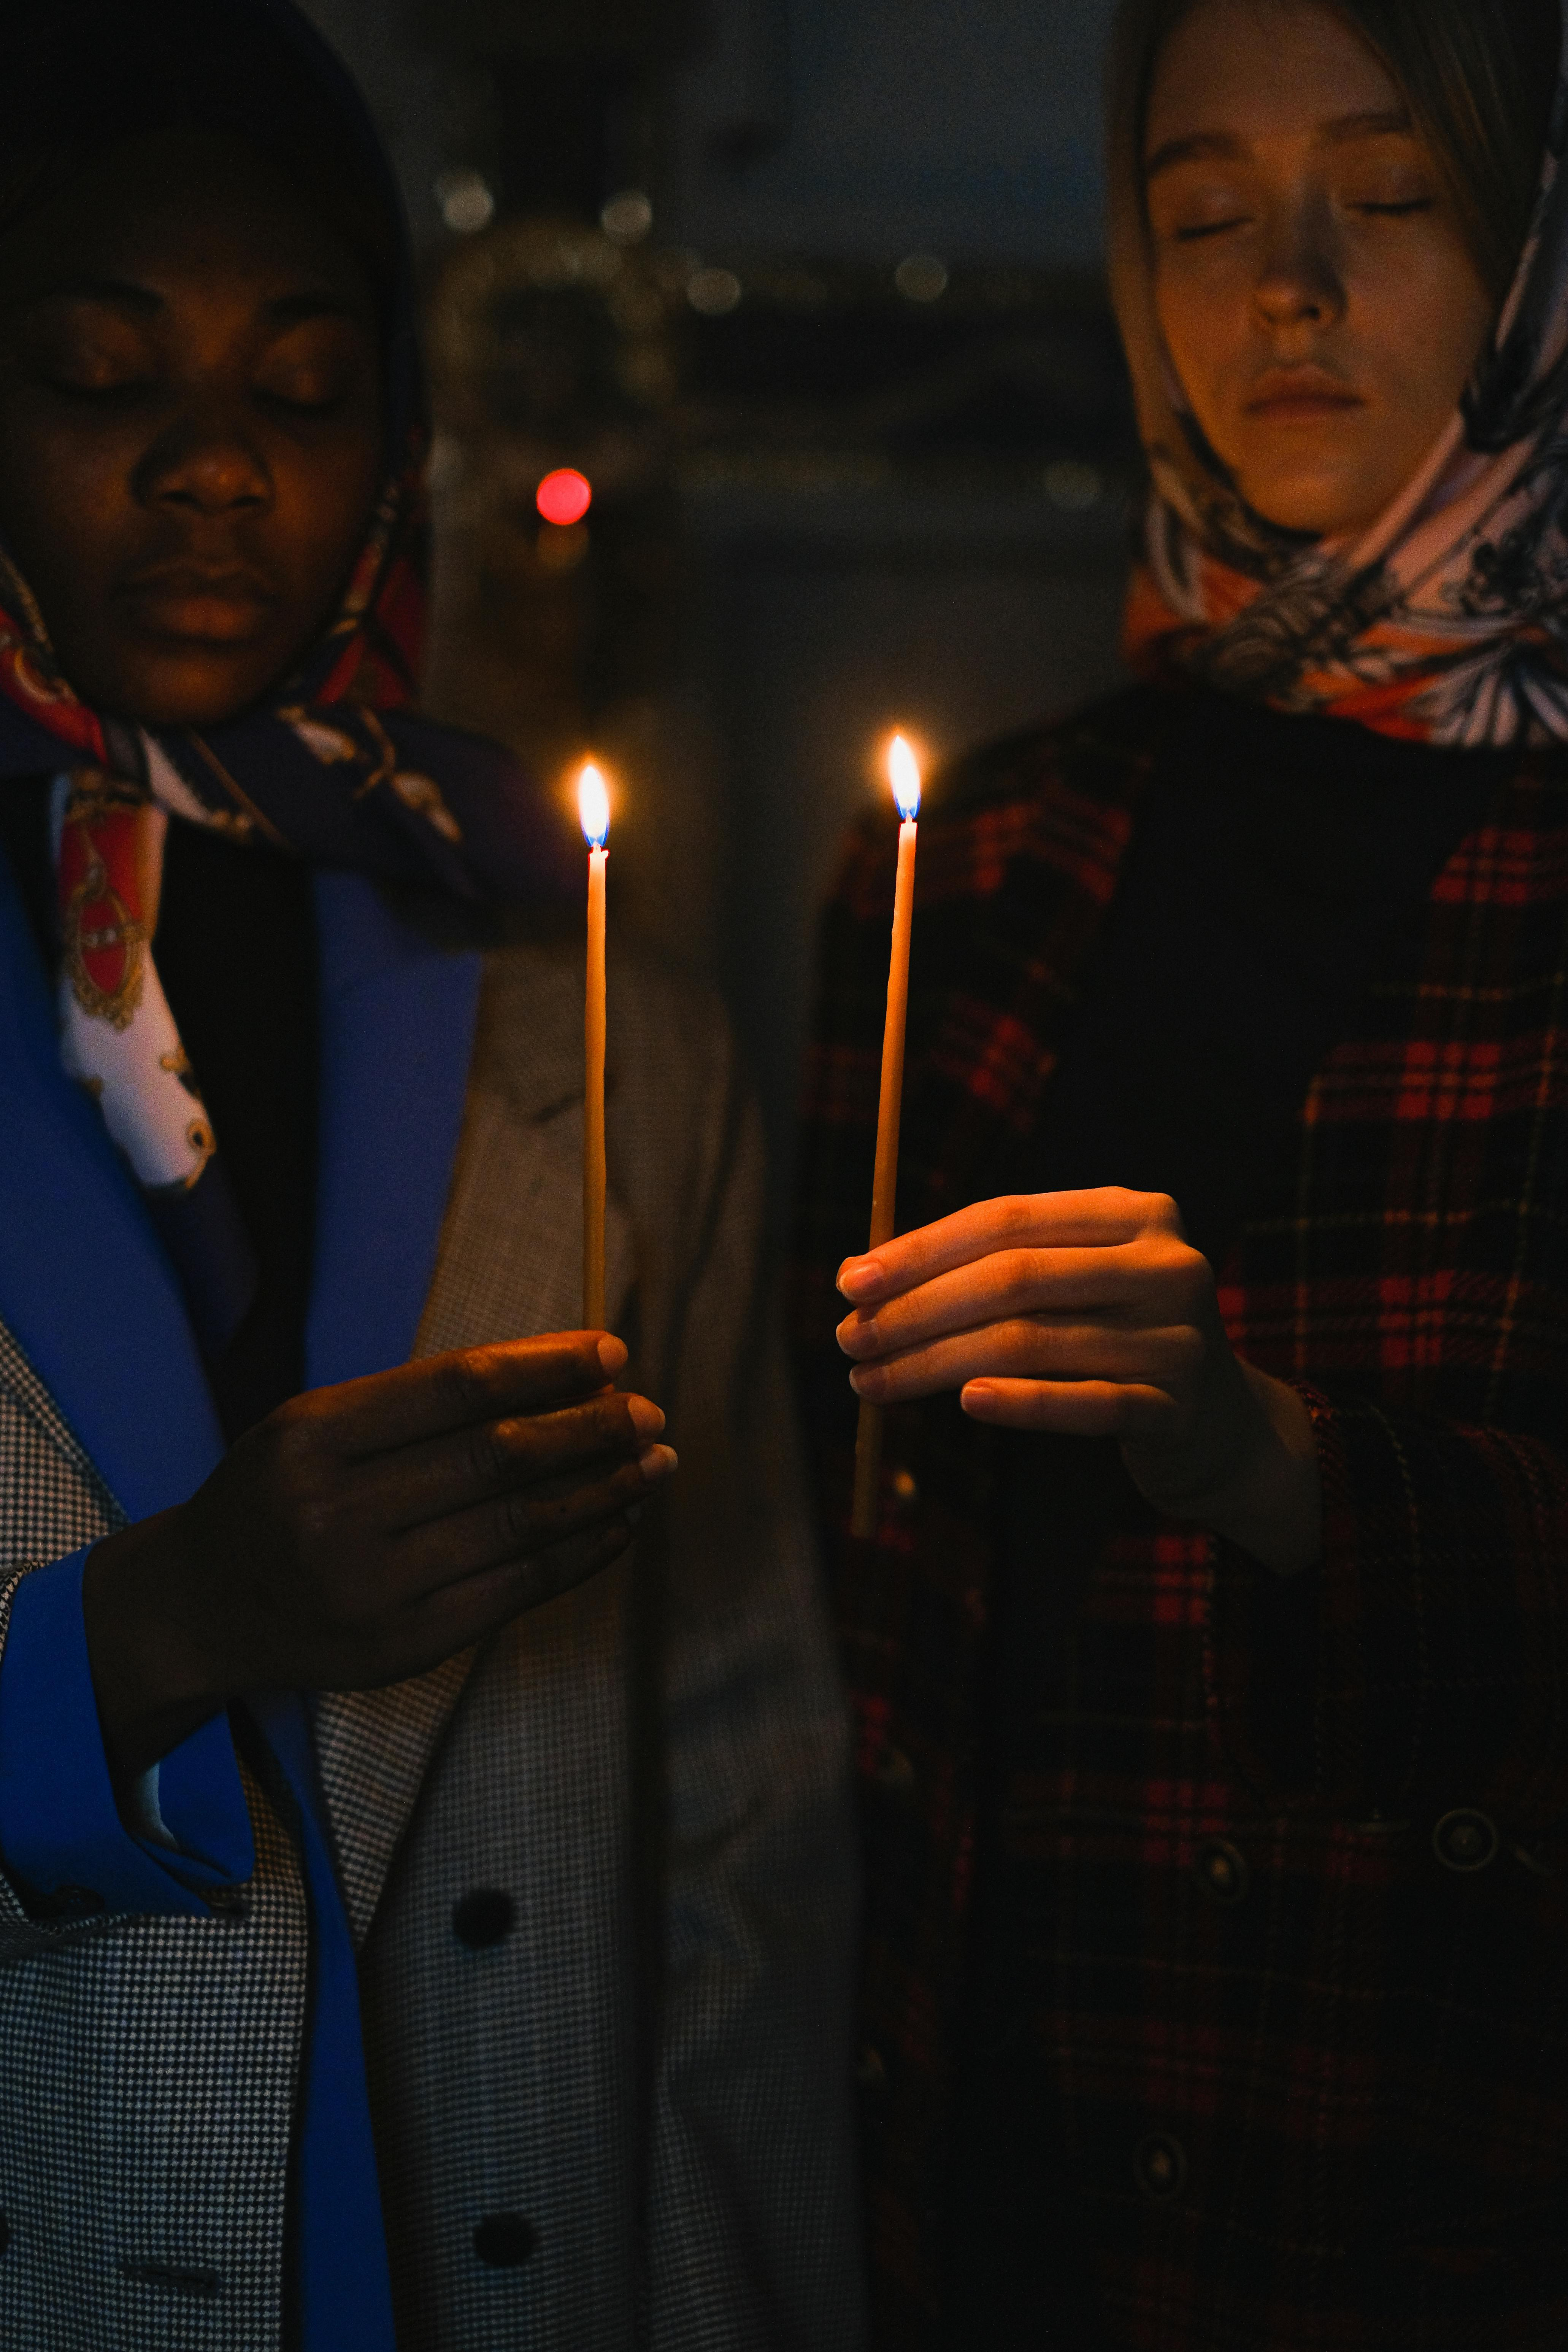Fire: (560, 758, 640, 854), (868, 716, 938, 815)
